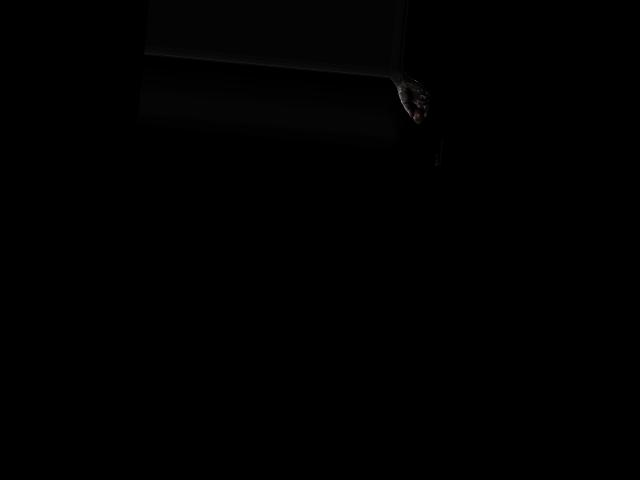egg: (412, 106, 425, 123)
